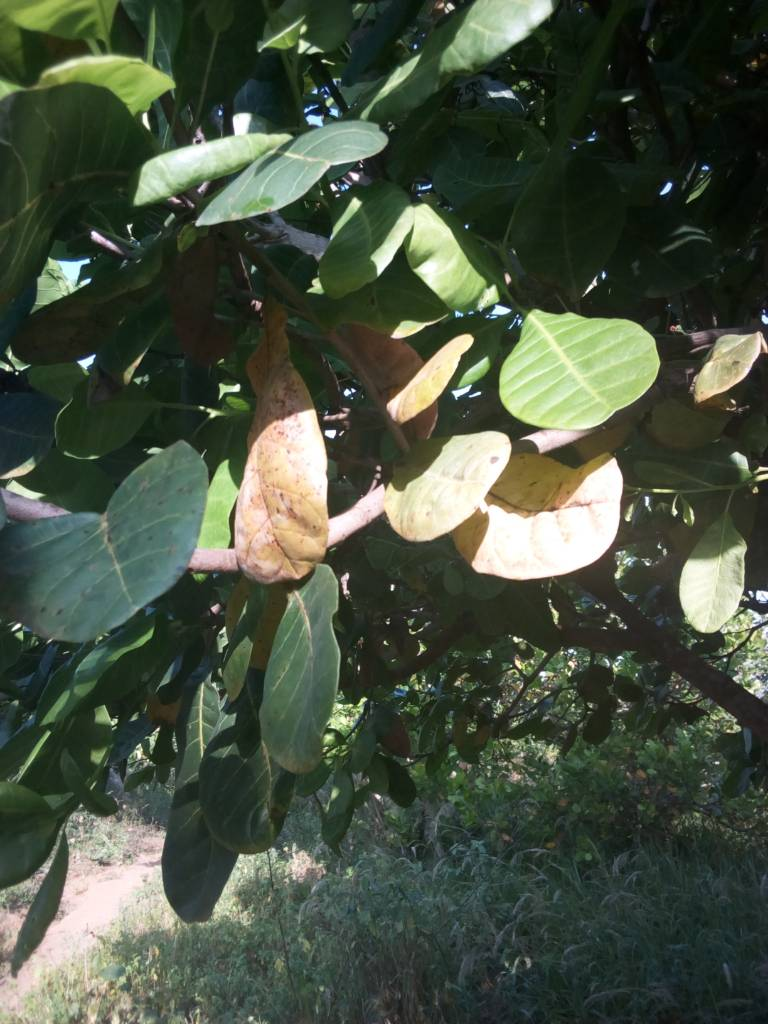Anthracnose: (240, 327, 327, 585)
